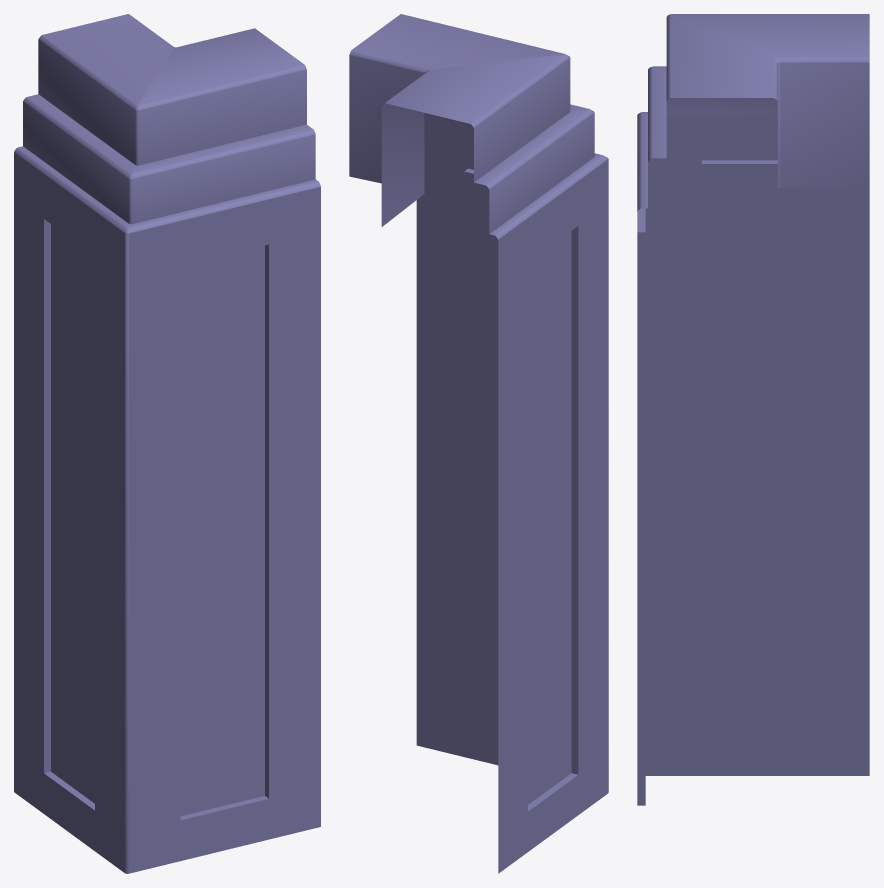
Rendered from M_A_wall_corner_03.fbx.
3 views of the same model, side by side, from view 1: azimuth 30°, elevation 25°; view 2: azimuth 150°, elevation 25°; view 3: azimuth 270°, elevation 25° (orthographic). The views are drawn at different scales.
Parts seen in each view (by area): view 1: M_A_wall_corner_03; view 2: M_A_wall_corner_03; view 3: M_A_wall_corner_03.
Part boxes in pixels (x1,y1,x2,y2): M_A_wall_corner_03: [14, 14, 320, 873]; M_A_wall_corner_03: [349, 14, 608, 873]; M_A_wall_corner_03: [637, 14, 869, 805].
Size of the model in its own units: 100 by 369 by 100.
